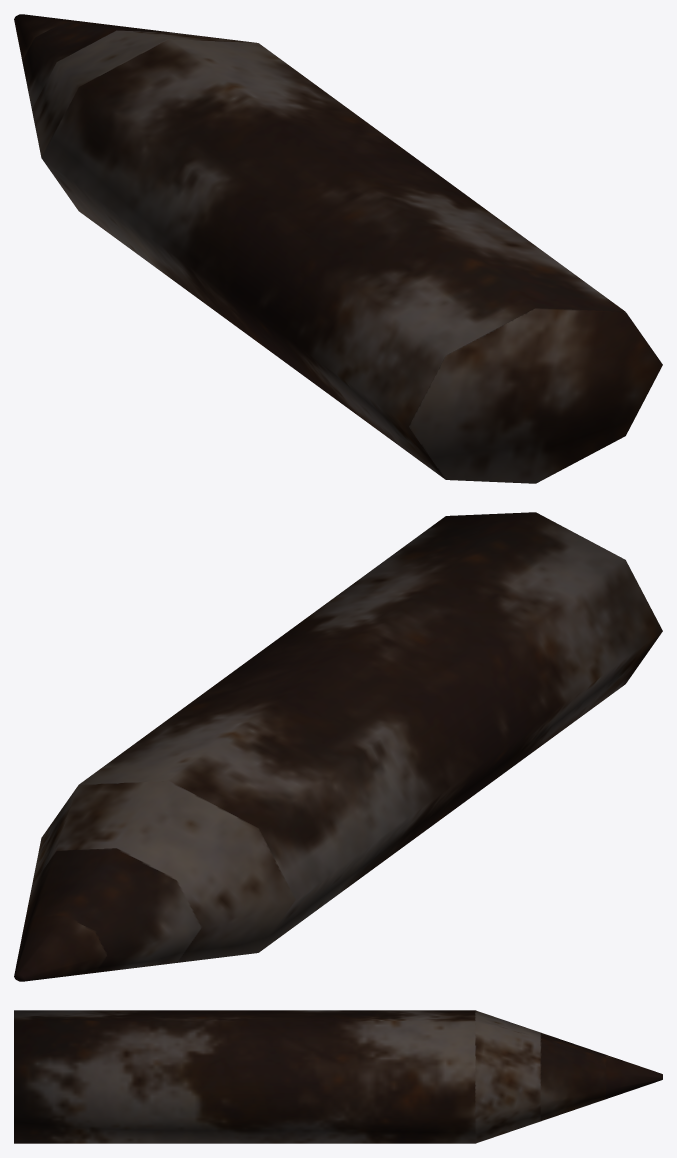
Rendered from Sharpnell.fbx.
The picture shows the model from 3 angles, top to bottom: view 1: azimuth 30°, elevation 25°; view 2: azimuth 150°, elevation 25°; view 3: azimuth 270°, elevation 25°; orthographic projection. The views are drawn at different scales.
Visible parts, largest first — view 1: Sharpnell_SM; view 2: Sharpnell_SM; view 3: Sharpnell_SM.
Part boxes in pixels (bbox=[...]): Sharpnell_SM: bbox=[14, 14, 662, 483]; Sharpnell_SM: bbox=[14, 512, 662, 981]; Sharpnell_SM: bbox=[14, 1010, 662, 1143].
Bounding box in the file's own units: 11.42 × 7.55 × 40.17.
Materials: 1 (1 with a texture image).
